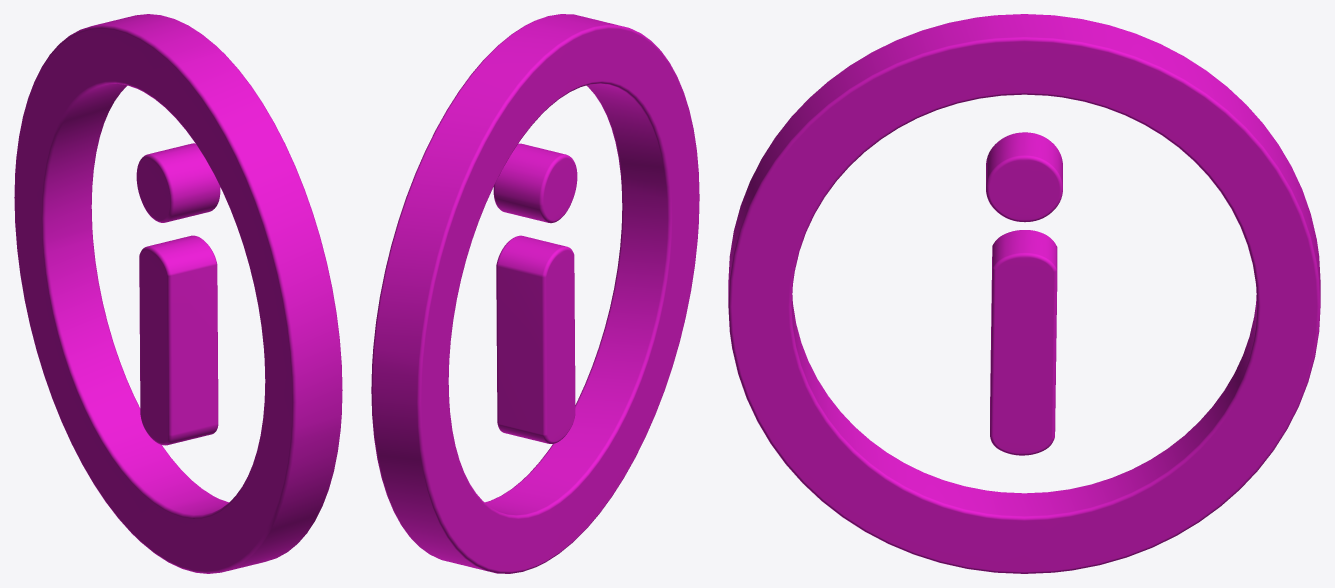
3 views of the same model, side by side, from view 1: azimuth 30°, elevation 25°; view 2: azimuth 150°, elevation 25°; view 3: azimuth 270°, elevation 25° (orthographic). The views are drawn at different scales.
Parts seen in each view (by area): view 1: Icko_2; view 2: Icko_2; view 3: Icko_2.
Boxes of the visible parts, box(x1,y1,x2,y2) form: Icko_2: box(14, 14, 342, 573); Icko_2: box(371, 14, 699, 573); Icko_2: box(728, 14, 1320, 573).
Size of the model in its own units: 1.7 by 16.65 by 16.65.
